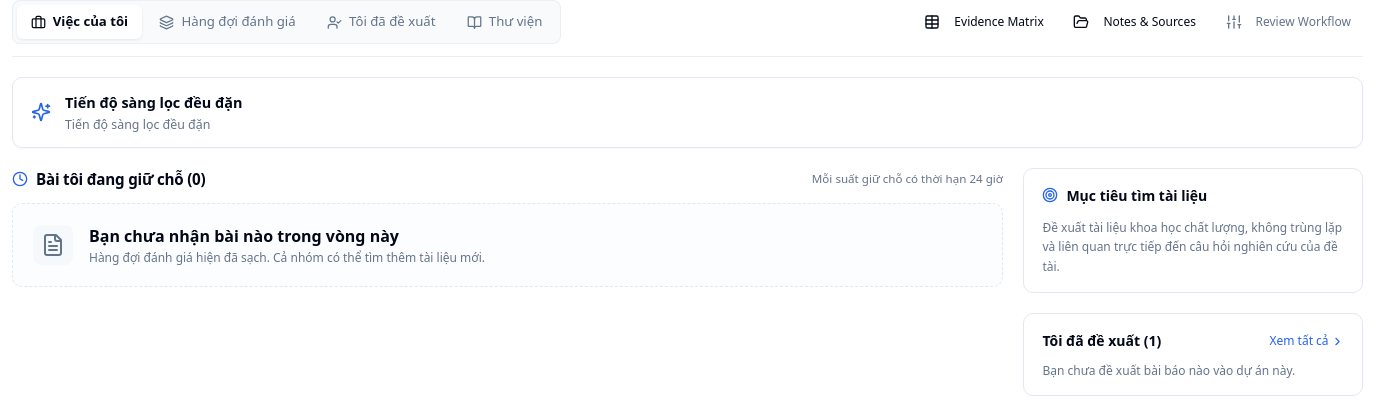
it: opens the task-first workspace by default and keeps organization accessible
Expected: the text "Thư viện cũ" is not shown
Click the button "Notes & Sources". click: [1135, 22]
box: [1061,6,1208,38]
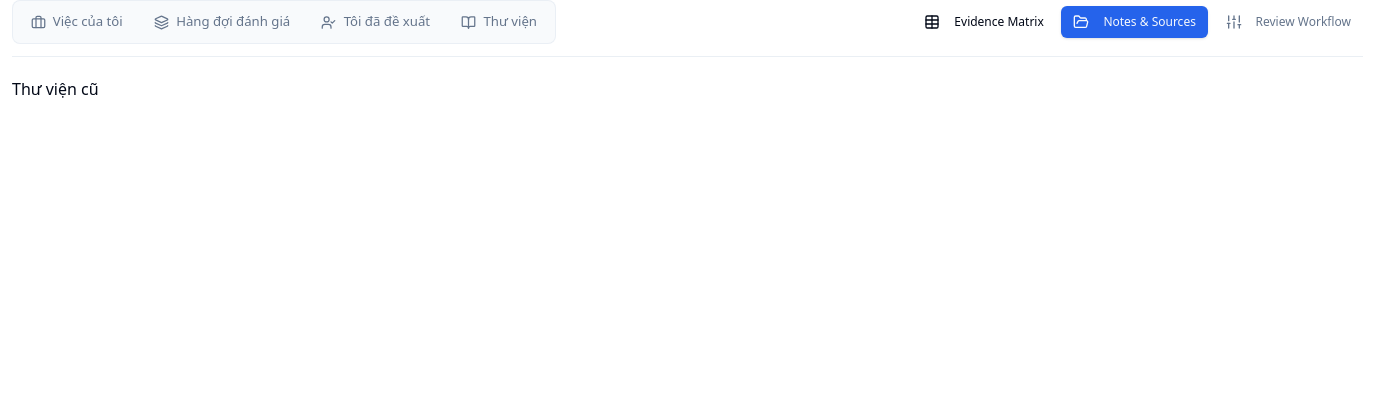
Expected: the text "Thư viện cũ" is shown, [12,78,99,100]
